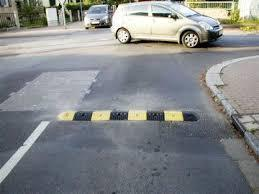speedbreaker: (55, 107, 198, 126)
